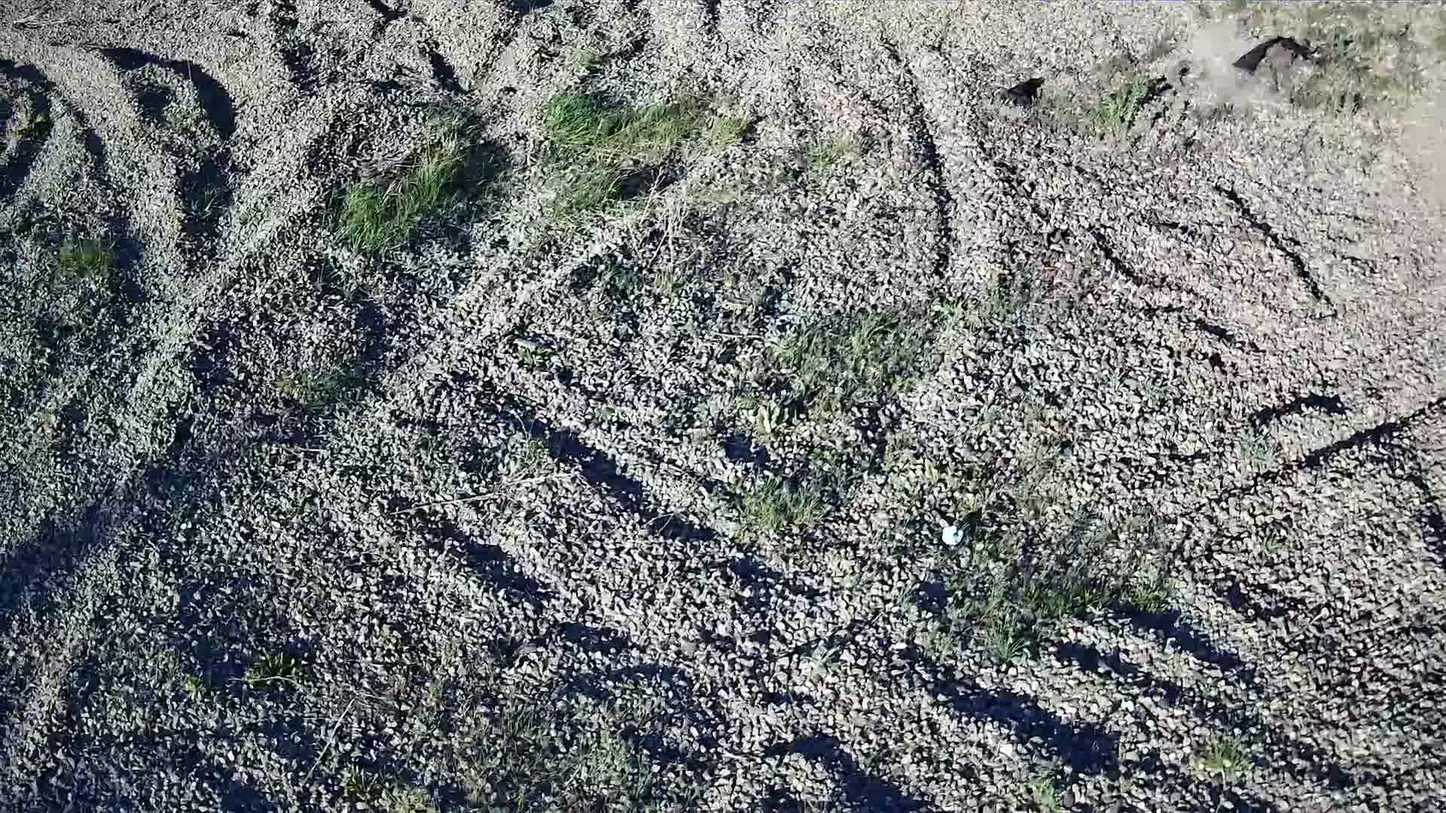Target: (942, 525, 965, 545)
